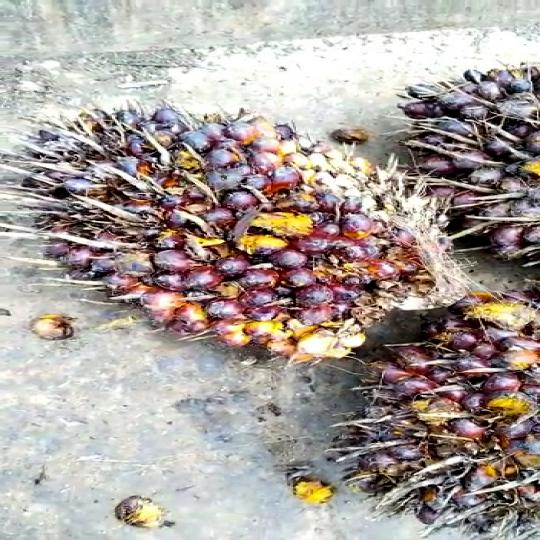masak: (0, 102, 466, 373)
